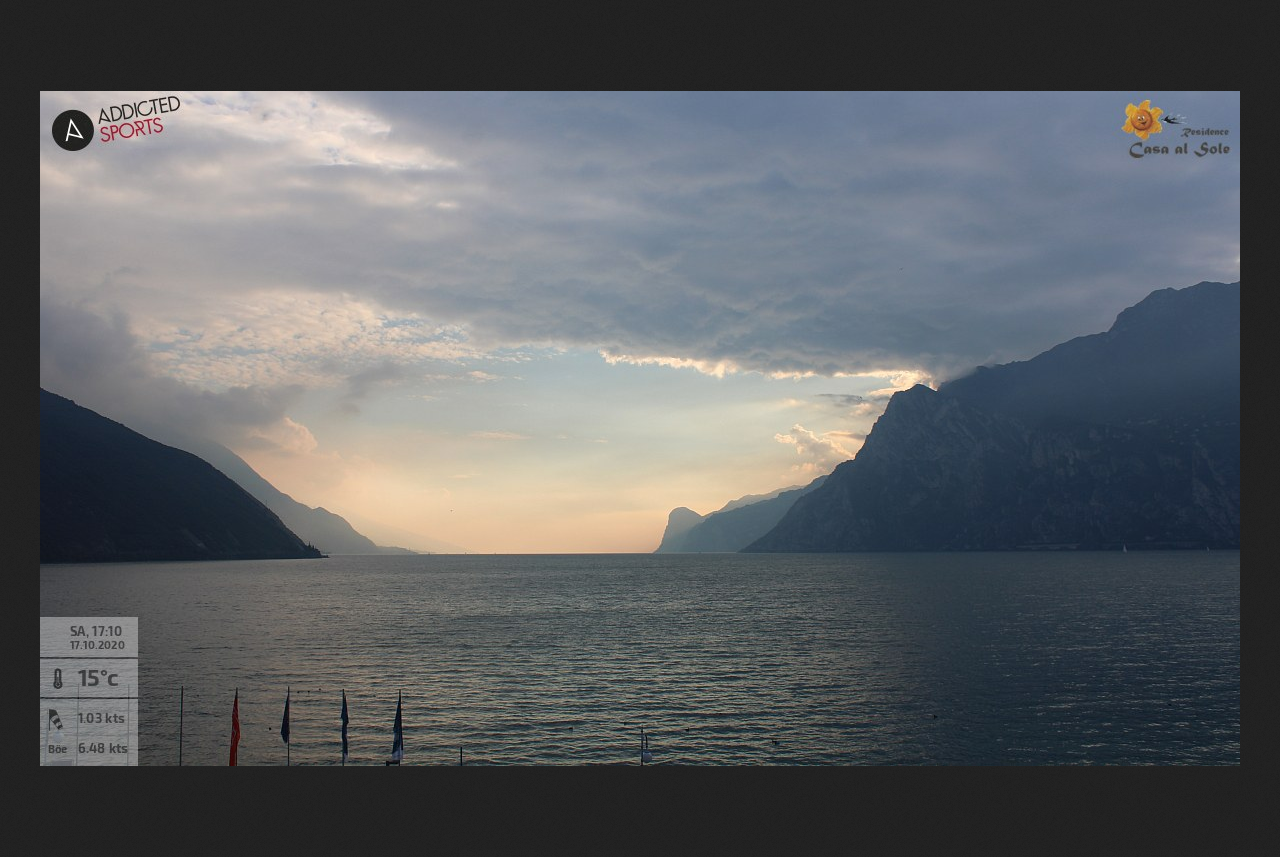no: (279, 690, 293, 743)
